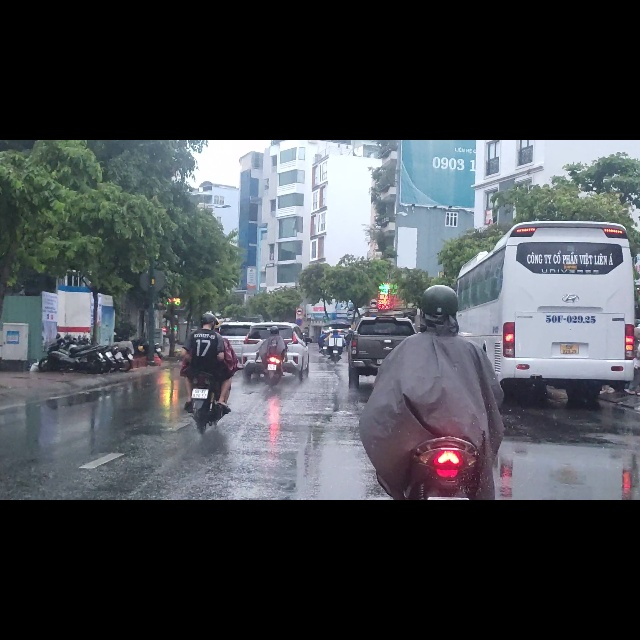bien_cam: (369, 280, 379, 299), (295, 317, 303, 331), (296, 297, 303, 311)
